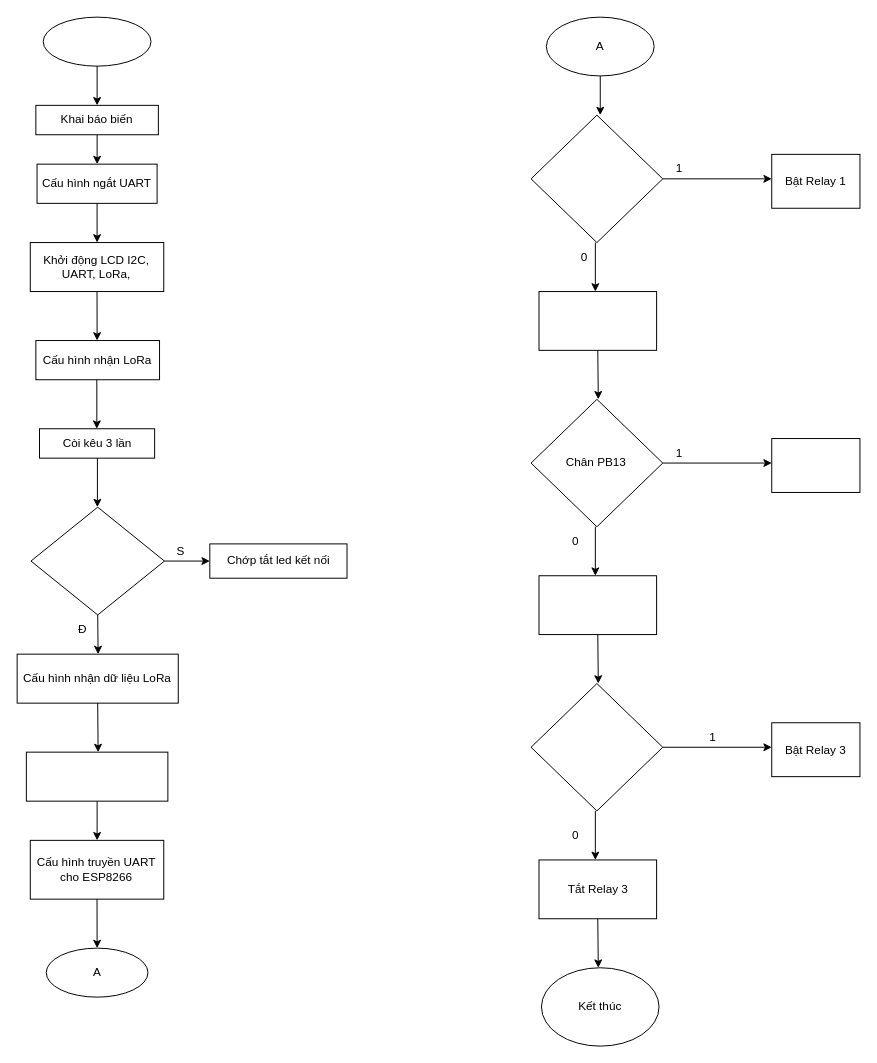
The diagram is 877 pixels wide and 1063 high, and some of its shapes have lost their labels. The shapes that lost their labels are listed below. From the top down, each one's box as (x1, y1, x2, y2) in pixels, then its label:
(42, 16, 151, 66): Bắt đầu
(530, 114, 663, 243): Chân PB12
(538, 291, 657, 350): Tắt Relay 1
(771, 438, 860, 492): Bật Relay 2
(30, 506, 164, 615): Kiểm tra kết nối LoRa
(538, 575, 657, 635): Tắt Relay 2
(530, 683, 663, 811): Chân PB14
(25, 751, 168, 801): Gửi dữ liệu cảm biến lên LCD 16x2
